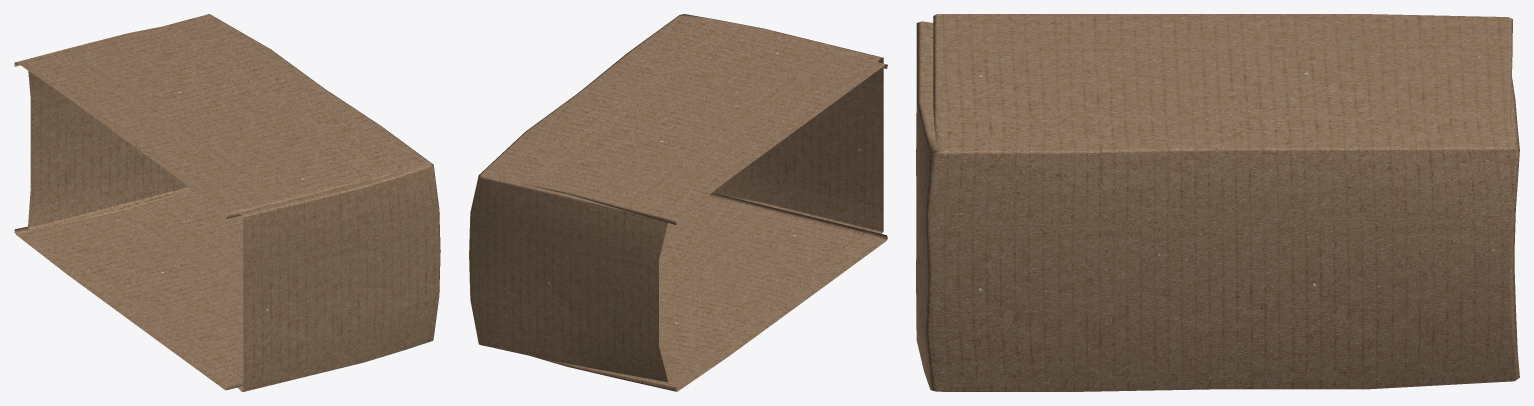
File: SM_BGBox_002.fbx
3 views of the same model, side by side, from view 1: azimuth 30°, elevation 25°; view 2: azimuth 150°, elevation 25°; view 3: azimuth 270°, elevation 25° (orthographic). The views are drawn at different scales.
Visible parts, largest first — view 1: EnvironmentBox_002; view 2: EnvironmentBox_002; view 3: EnvironmentBox_002.
Boxes of the visible parts, box(x1,y1,x2,y2) form: EnvironmentBox_002: box(14, 14, 440, 391); EnvironmentBox_002: box(469, 14, 887, 391); EnvironmentBox_002: box(916, 14, 1519, 391).
Size of the model in its own units: 378 by 298 by 676.
